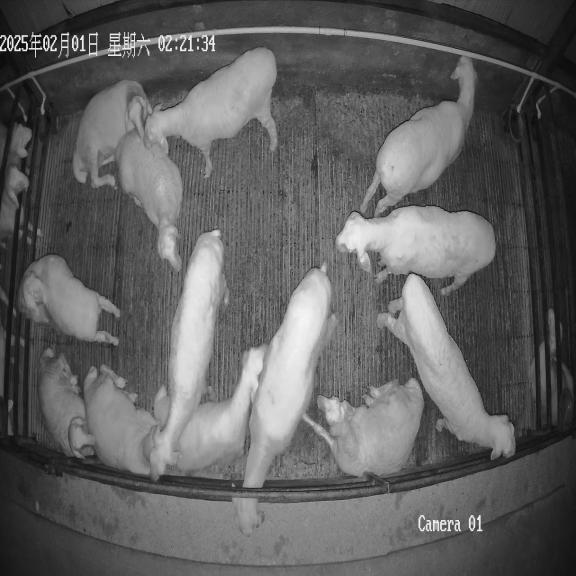eating: (234, 264, 338, 534)
lying: (175, 345, 267, 473), (317, 378, 424, 477), (117, 133, 182, 271), (72, 80, 153, 188), (84, 365, 159, 475), (38, 348, 94, 458), (153, 386, 170, 424)
stand: (379, 274, 515, 460), (150, 230, 227, 479), (360, 56, 477, 216), (144, 47, 277, 178), (335, 206, 495, 295), (18, 254, 120, 345)
